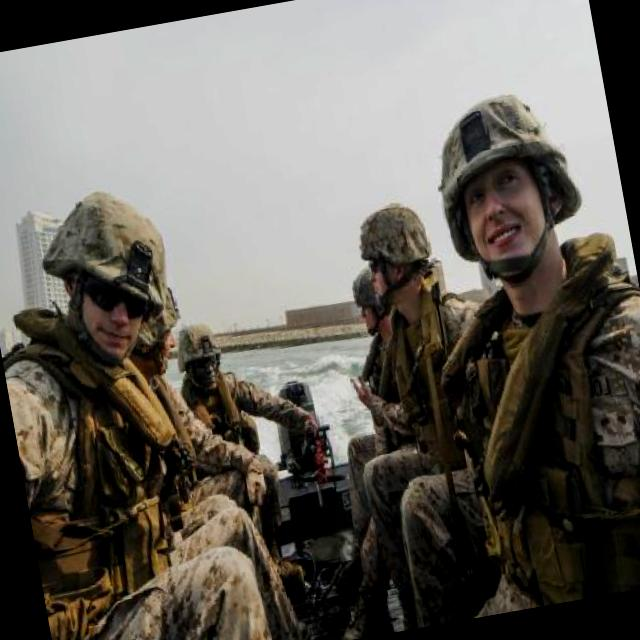Person: (371, 74, 640, 619), (0, 171, 275, 640), (314, 188, 550, 632), (252, 268, 450, 640), (112, 264, 311, 612), (160, 310, 344, 596)
